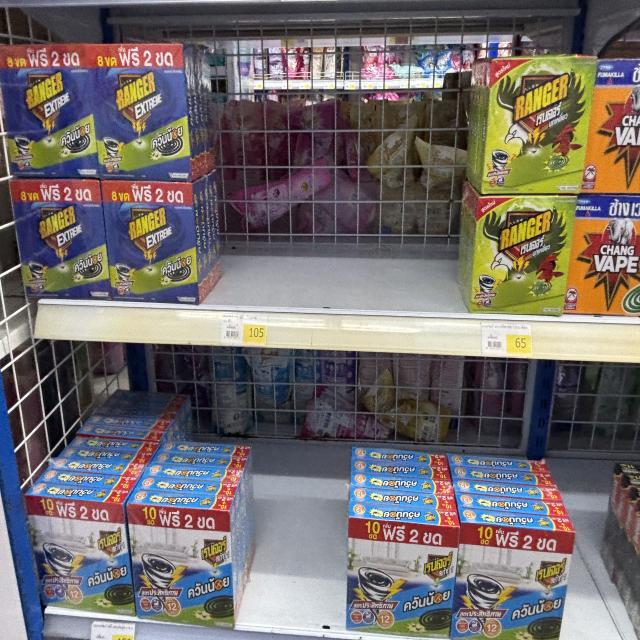empty_shelf: (201, 44, 478, 313), (23, 343, 241, 504), (356, 358, 560, 526), (240, 348, 351, 632), (564, 368, 638, 637)
